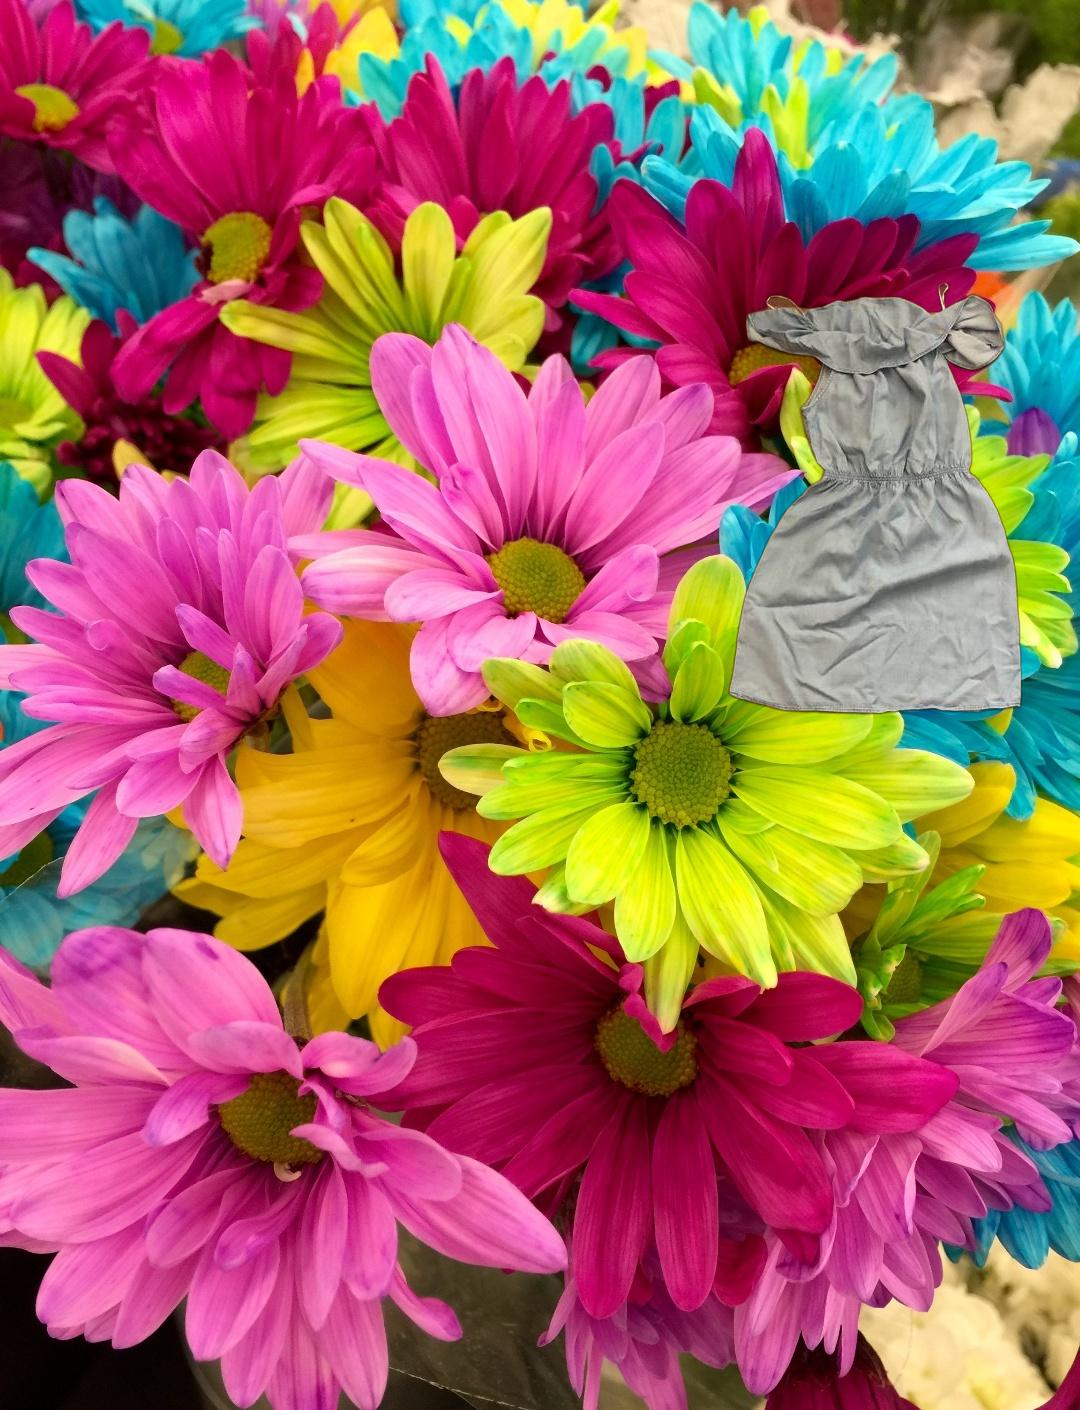clothes: (726, 278, 1026, 719)
